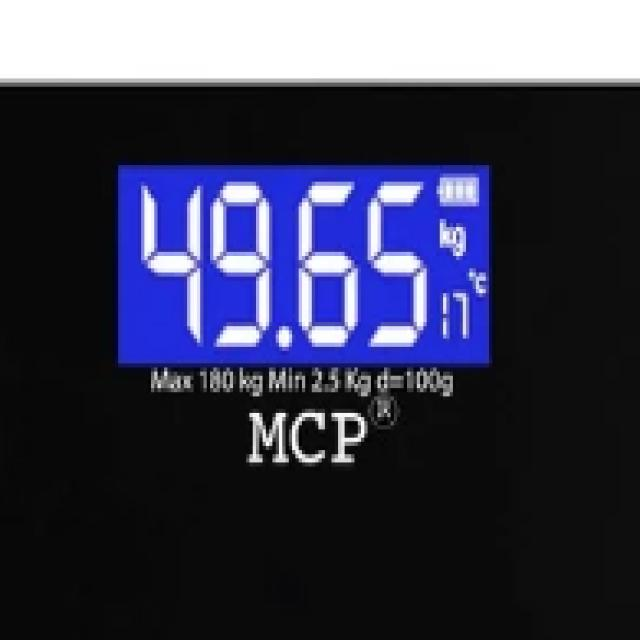.: (271, 320, 300, 354)
1: (436, 290, 452, 346)
4: (133, 181, 208, 349)
5: (368, 176, 432, 349)
6: (291, 172, 363, 352)
7: (454, 286, 474, 340)
9: (211, 181, 280, 355)
screen: (121, 164, 491, 369)
